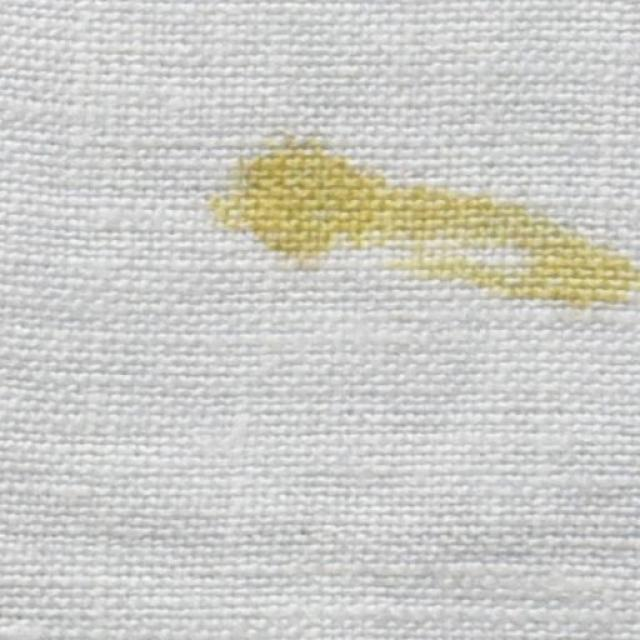Stain: (216, 139, 640, 311)
